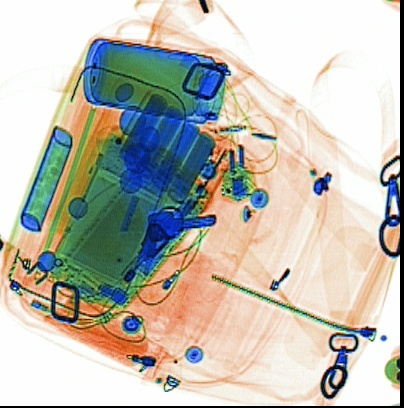powerbank: (112, 88, 240, 215)
